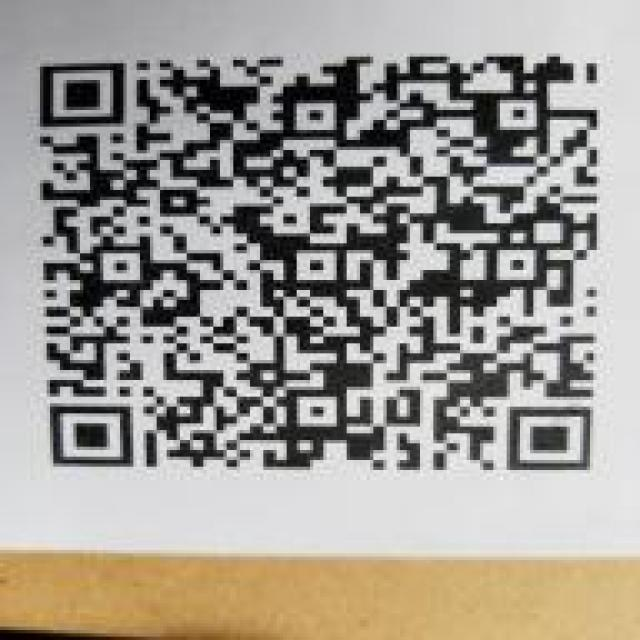qr_code: (41, 54, 599, 472)
